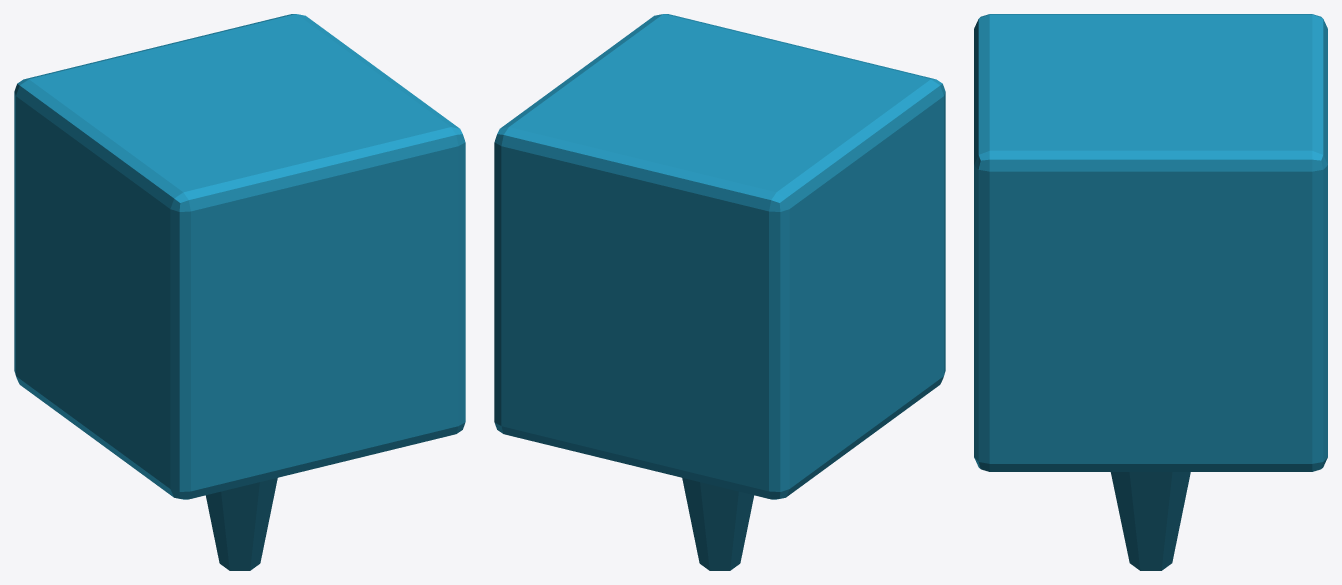
Rendered from pin_2.fbx.
The picture shows the model from 3 angles, left to right: view 1: azimuth 30°, elevation 25°; view 2: azimuth 150°, elevation 25°; view 3: azimuth 270°, elevation 25°; orthographic projection. The views are drawn at different scales.
Parts seen in each view (by area): view 1: Pin2; view 2: Pin2; view 3: Pin2.
Boxes of the visible parts, x1,y1,x2,y2 form: Pin2: (14,14,465,570); Pin2: (494,14,945,570); Pin2: (974,14,1327,570).
Bounding box in the file's own units: 7.5 × 11.24 × 7.5.
